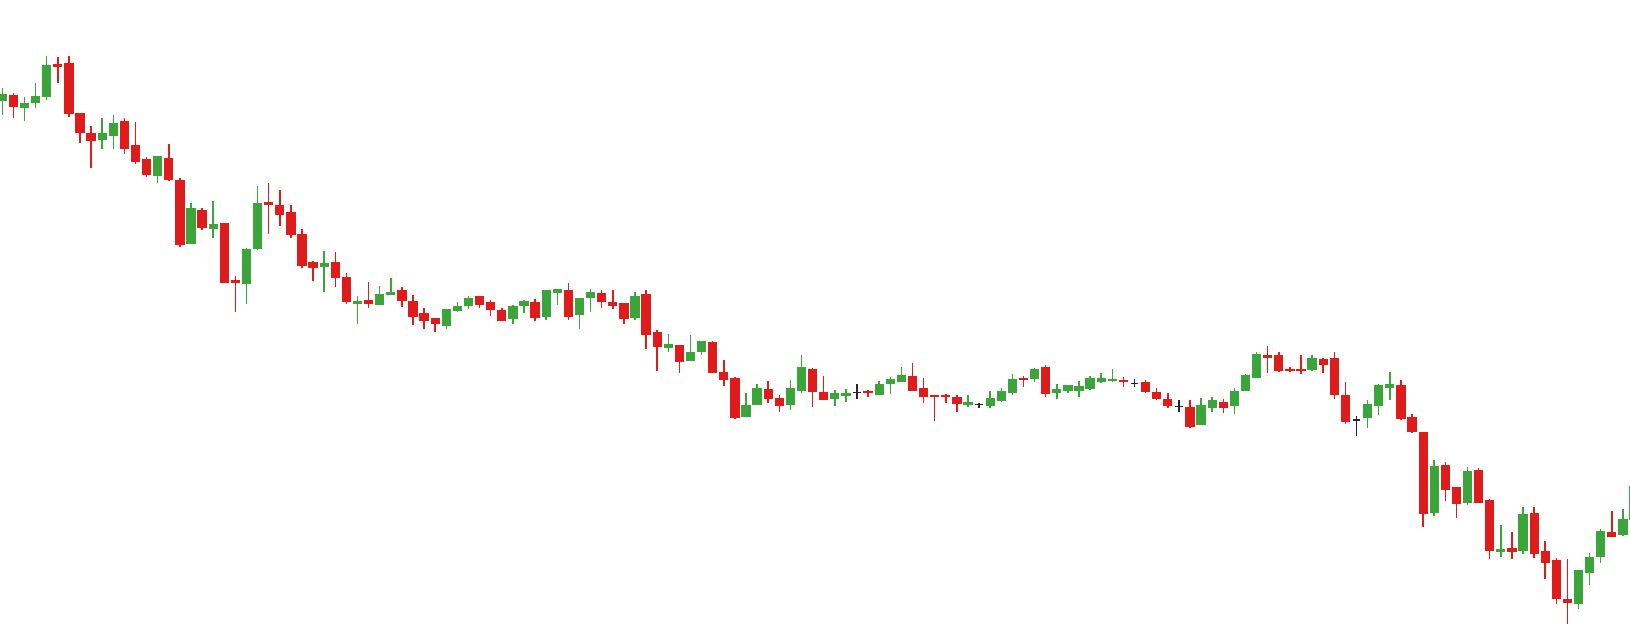sell: (208, 183, 284, 261)
